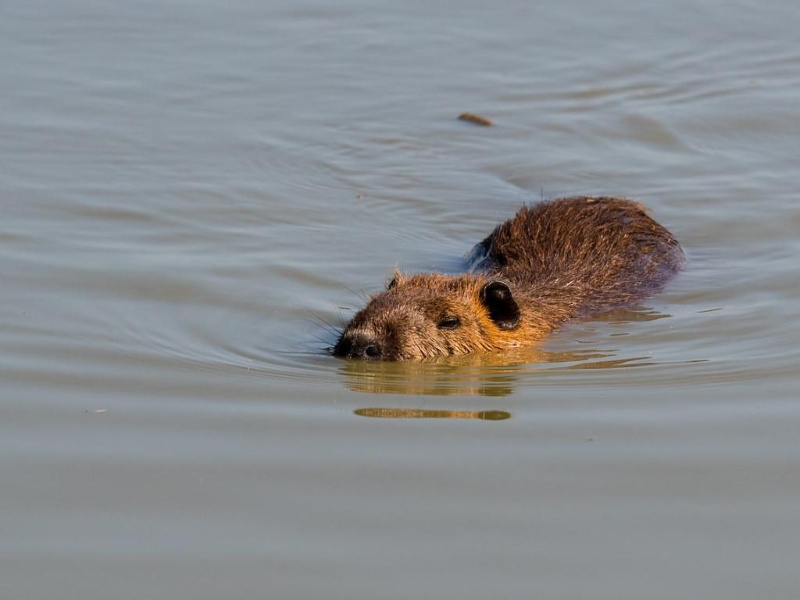minkish: (330, 184, 680, 368)
